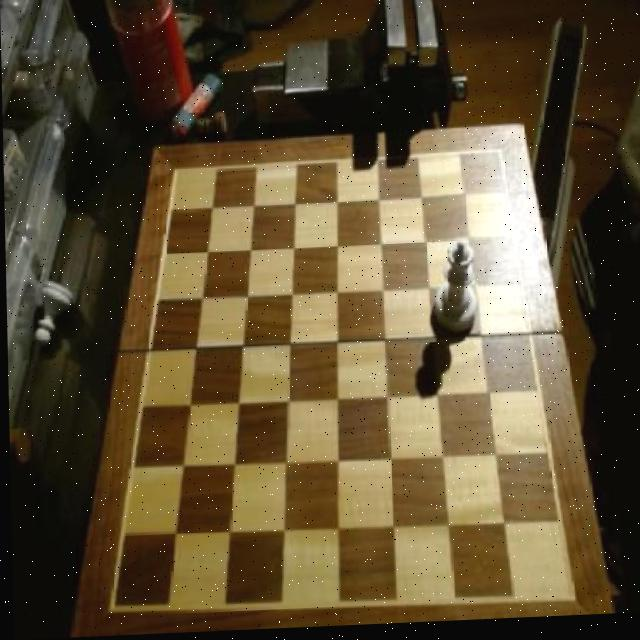white-pawn: (432, 240, 479, 343)
